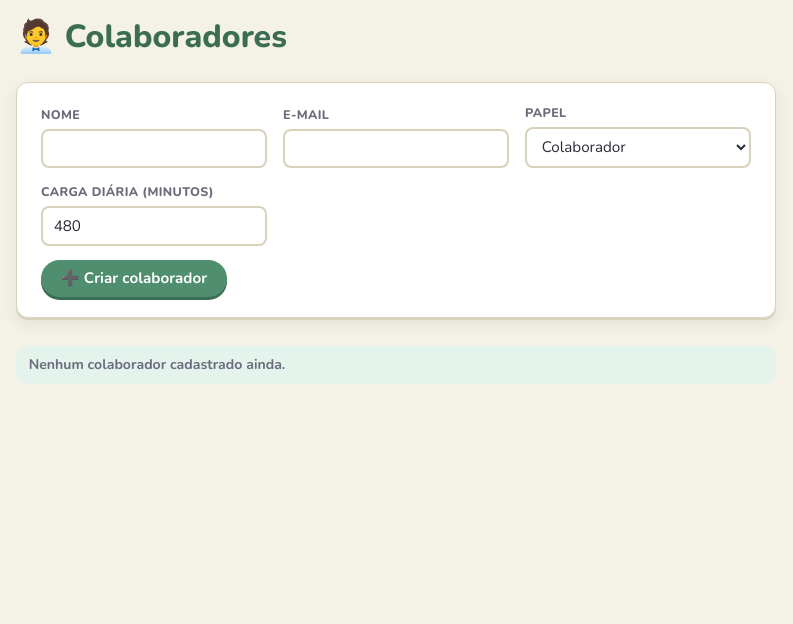
Scenario: ColaboradoresPage › cria um colaborador e atualiza a lista
Type "Beto Lima" into the field labelled "Nome".
click(154, 148); type("Beto Lima")  # box [41,129,267,168]
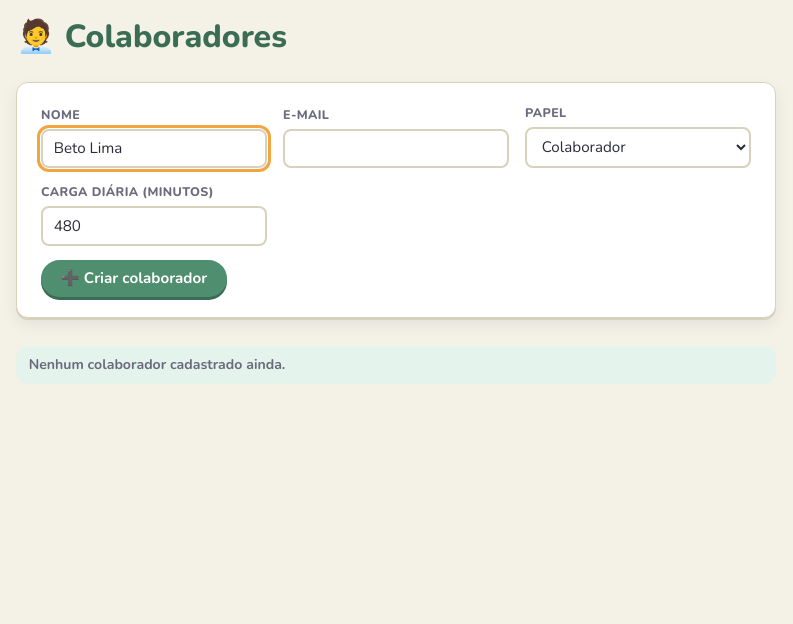
Type "beto@escritor.io" into the field labelled "E-mail".
click(396, 148); type("beto@escritor.io")  # box [283,129,509,168]
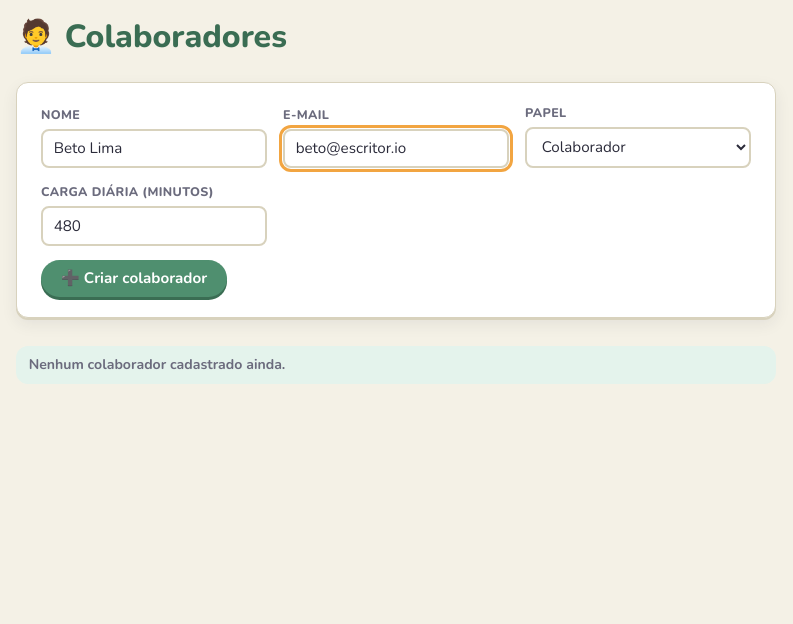
Click the button "➕ Criar colaborador".
click(134, 278)  # box [41,260,227,297]
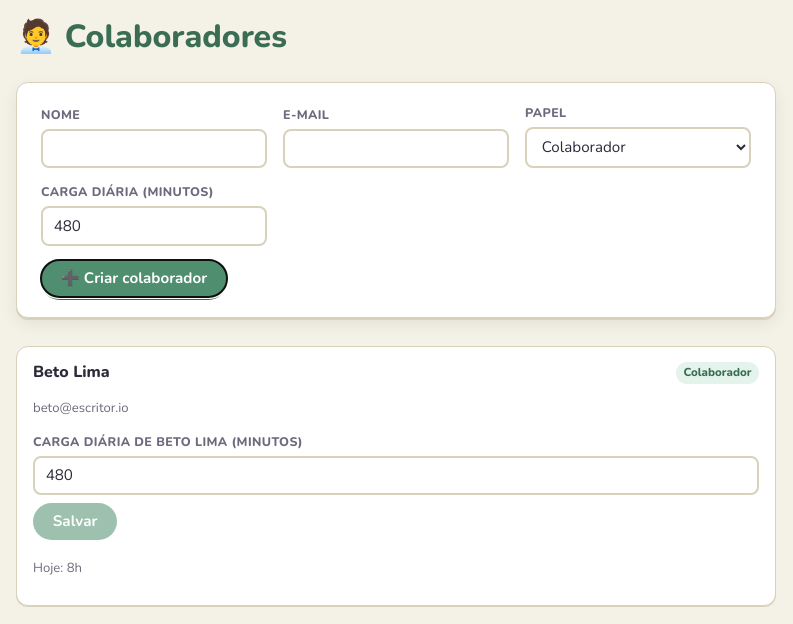
expect the text "Beto Lima" is shown: met, box [33,360,110,385]
